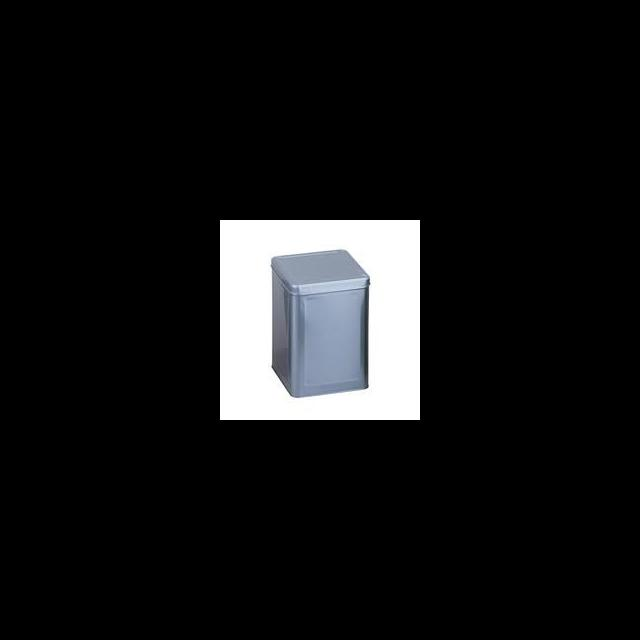metal: (270, 247, 368, 396)
